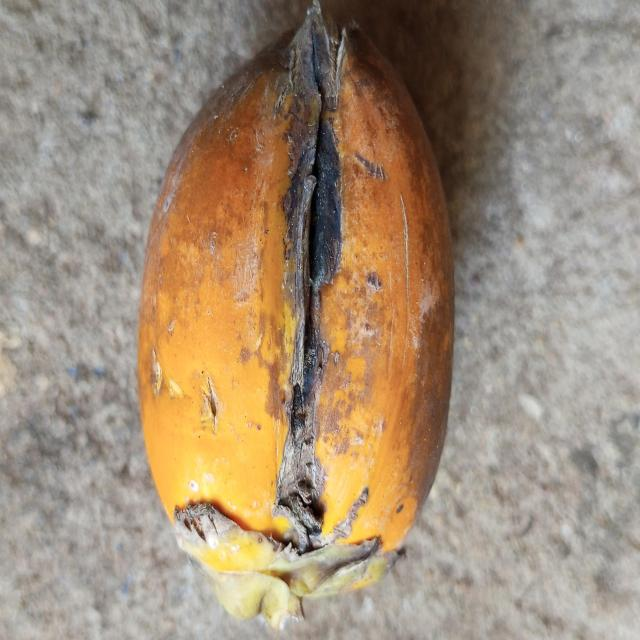damaged: (138, 2, 453, 627)
